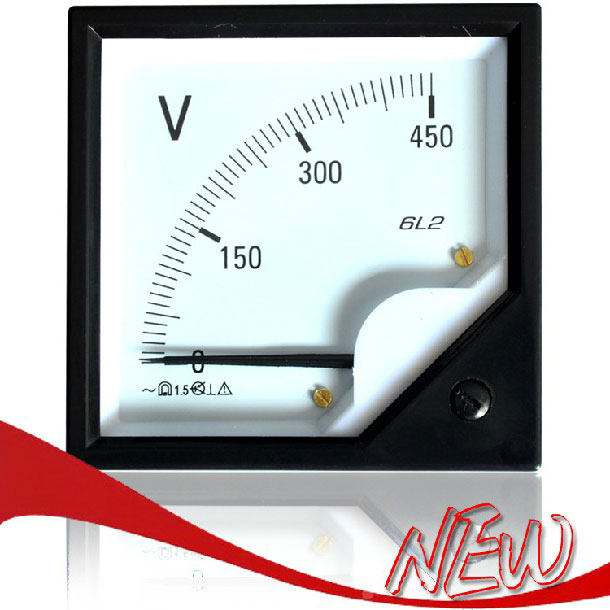pointer: (99, 37, 503, 438)
